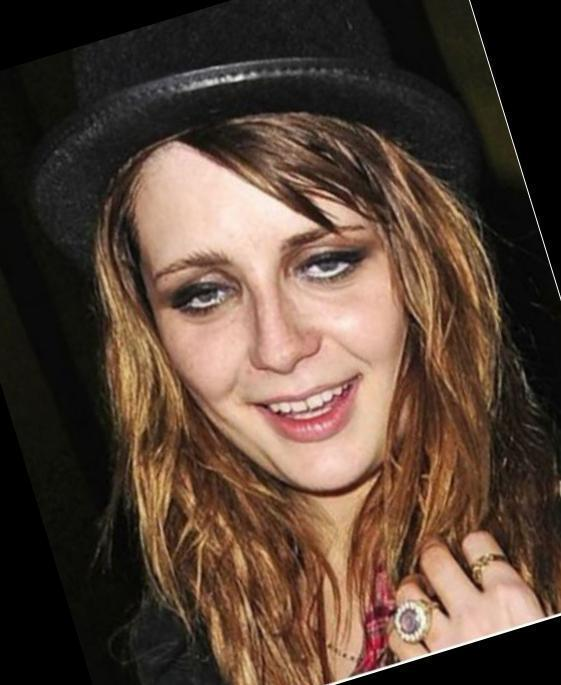Drunk: (129, 155, 420, 500)
